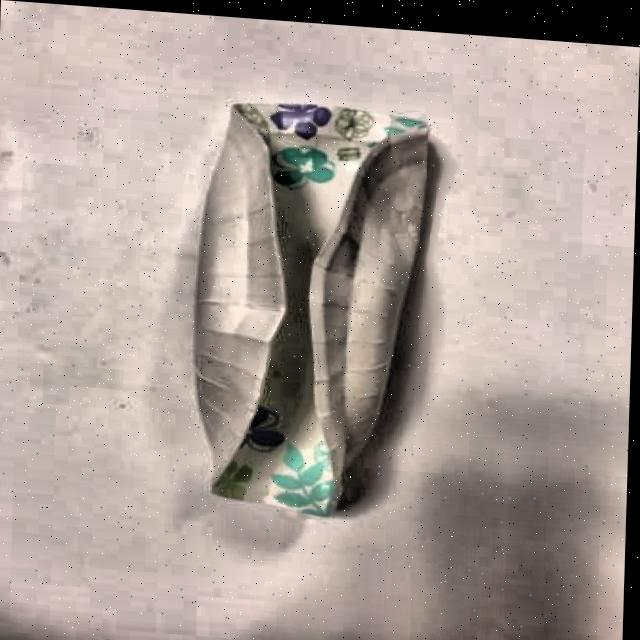paper: (156, 95, 430, 526)
